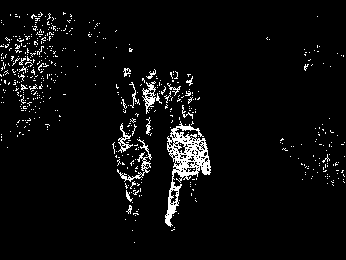person: (163, 112, 212, 232), (112, 121, 151, 218), (140, 66, 164, 136), (114, 65, 142, 116), (177, 72, 199, 126), (162, 69, 182, 128)
